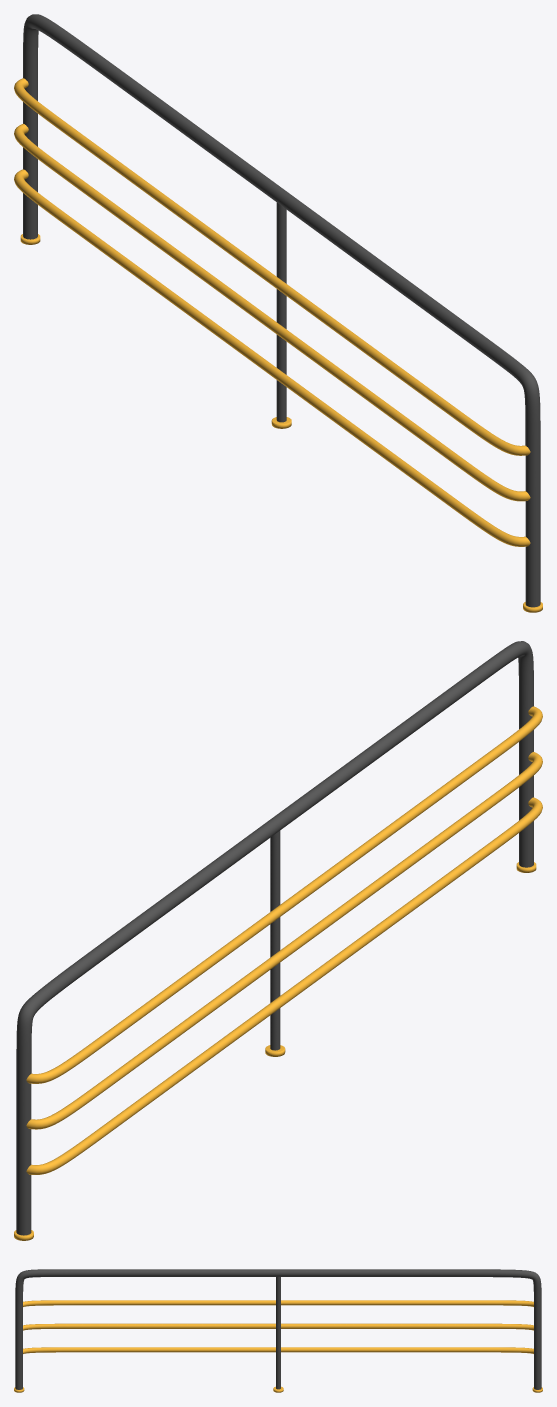
File: Ringhiera4x1.fbx
3 views of the same model, one above another, from view 1: azimuth 30°, elevation 25°; view 2: azimuth 150°, elevation 25°; view 3: azimuth 270°, elevation 25° (orthographic). The views are drawn at different scales.
Parts seen in each view (by area): view 1: MainStruct, BarraOriz1, BarraOriz2, BarraOriz3, BarraVert; view 2: MainStruct, BarraOriz1, BarraOriz3, BarraOriz2, BarraVert; view 3: MainStruct, BarraOriz2, BarraOriz3, BarraOriz1, BarraVert.
Part boxes in pixels (x1,y1,x2,y2): MainStruct: (23,14,540,607); BarraOriz1: (14,123,530,501); BarraOriz2: (14,169,530,546); BarraOriz3: (14,78,530,455); BarraVert: (276,202,286,422); MainStruct: (16,641,533,1235); BarraOriz1: (26,752,542,1129); BarraOriz3: (26,706,542,1083); BarraOriz2: (26,797,542,1174); BarraVert: (270,830,280,1050); MainStruct: (15,1269,541,1389); BarraOriz2: (23,1347,533,1353); BarraOriz3: (23,1300,533,1306); BarraOriz1: (23,1323,533,1330); BarraVert: (276,1276,280,1389).
Bounding box in the file's own units: 15.96 × 103 × 408.
